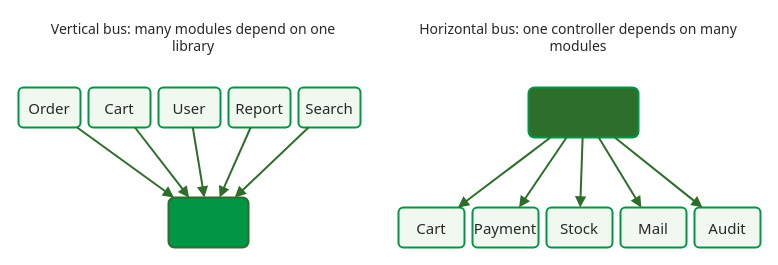
The diagram is 778 pixels wide and 265 high, and some of its shapes have lost their labels. The shapes that lost their labels are listed below. From the top down, each one's box as (x1, y1, x2, y2) in pixels, then its label:
(527, 86, 639, 138): Checkout
(167, 196, 249, 248): Log
